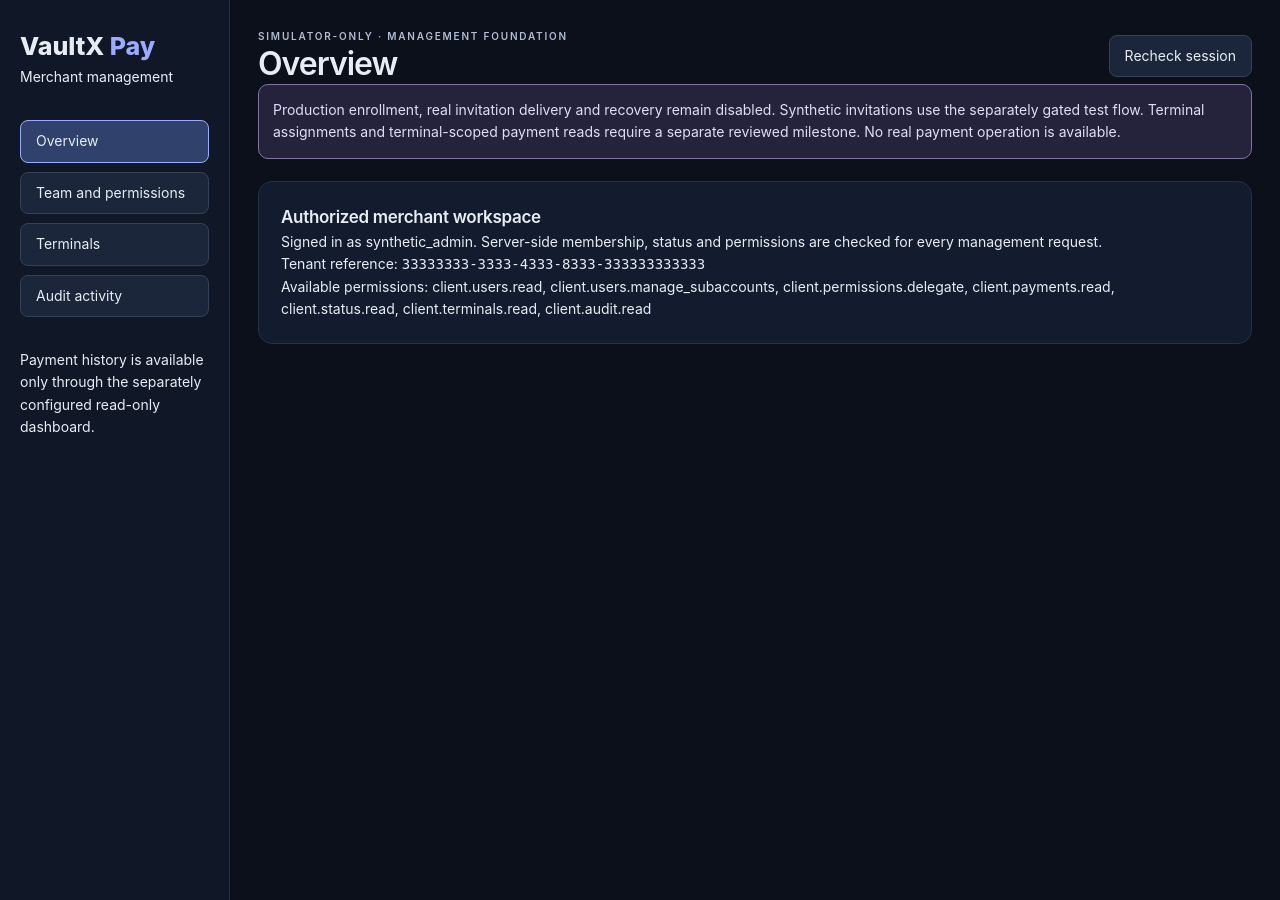
Test: clears records and closes protected views on denied reads
Click the button "Team and permissions": x=114, y=193 x1=20 y1=172 x2=209 y2=214
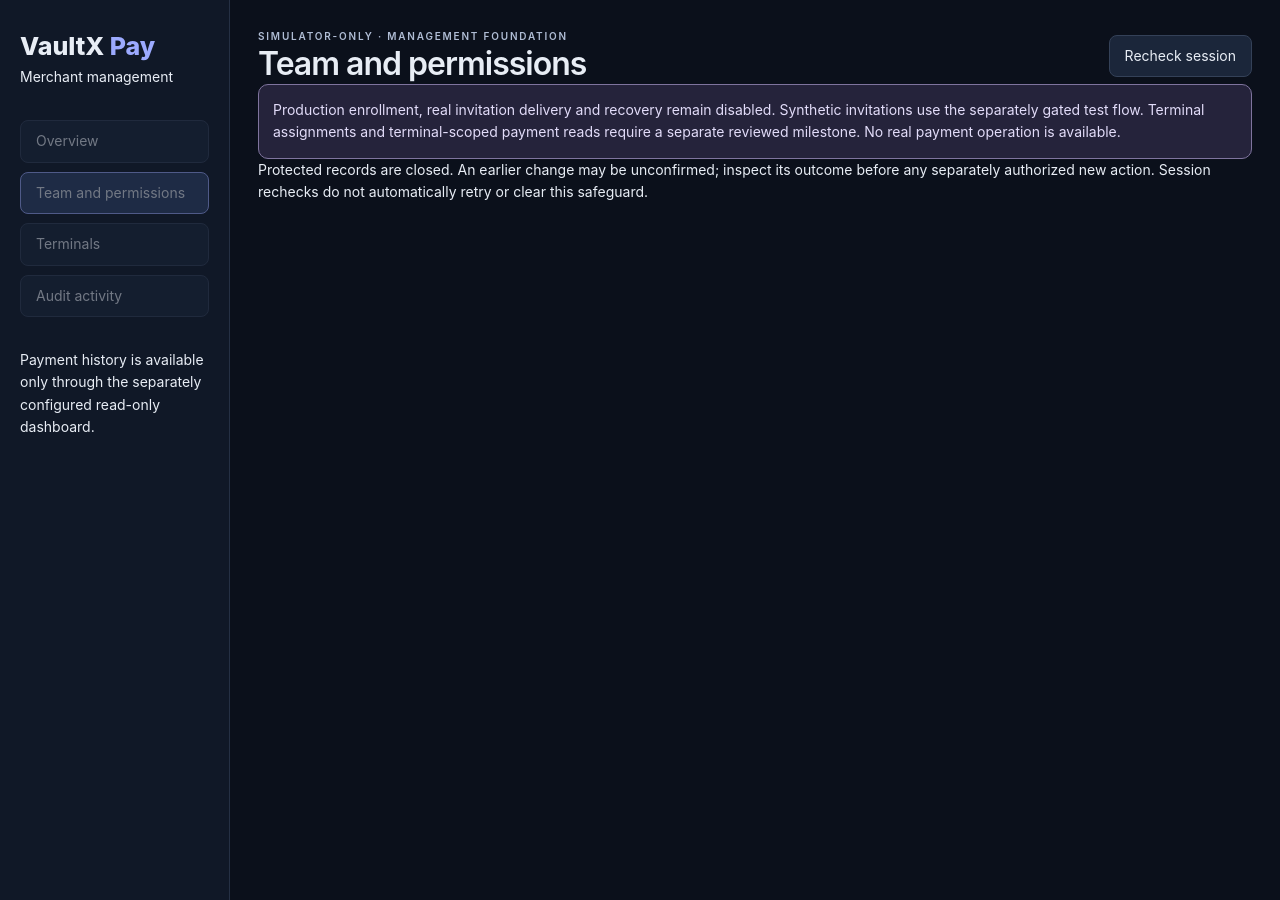
expect the text "Protected records are closed" is shown: met, box x1=258 y1=161 x2=1211 y2=200
